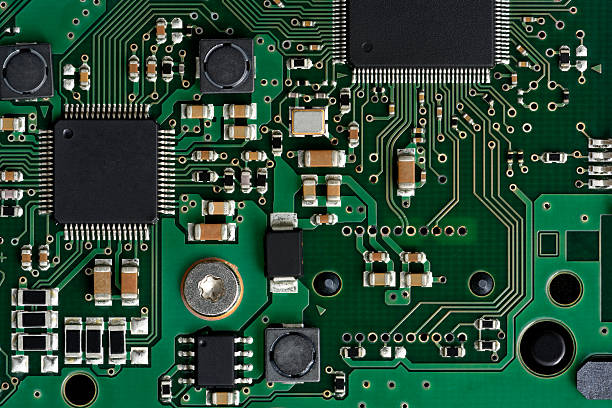Connector P: (16, 287, 55, 306), (16, 333, 55, 352), (108, 323, 127, 362), (15, 310, 54, 328), (86, 324, 103, 361), (65, 325, 82, 359), (442, 343, 464, 358), (543, 150, 566, 164), (343, 345, 364, 359), (558, 47, 571, 69), (339, 89, 351, 112), (271, 131, 283, 154), (477, 338, 498, 351), (334, 374, 346, 396), (195, 169, 215, 182), (1, 204, 21, 217), (256, 168, 267, 191), (290, 56, 309, 69), (478, 318, 498, 330), (223, 170, 235, 190), (160, 380, 172, 400), (162, 59, 173, 78), (296, 80, 308, 86)
Transformer T: (289, 106, 327, 136), (397, 151, 416, 192), (303, 149, 342, 168), (193, 223, 231, 242), (93, 266, 111, 301), (121, 266, 138, 302), (325, 175, 341, 206), (403, 271, 432, 287), (302, 176, 317, 205), (227, 125, 255, 140), (366, 272, 393, 287), (211, 391, 237, 406), (227, 105, 254, 118), (207, 201, 232, 215), (185, 105, 209, 118), (1, 117, 21, 131), (194, 149, 215, 161), (1, 170, 21, 182), (1, 188, 21, 200), (244, 150, 263, 162), (349, 124, 359, 145), (156, 20, 166, 41), (21, 248, 31, 268), (39, 247, 48, 268), (129, 59, 138, 79), (80, 68, 89, 87), (147, 59, 156, 78), (389, 103, 395, 116), (511, 73, 517, 84), (310, 44, 320, 50), (519, 61, 528, 67), (303, 21, 313, 26), (524, 17, 534, 22)
Transistor Q: (36, 107, 173, 240), (336, 1, 507, 89), (182, 333, 244, 387)
